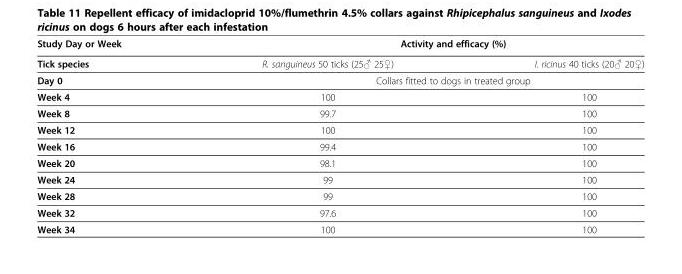table: (36, 37, 643, 234)
table column: (190, 37, 463, 234), (463, 37, 643, 234), (36, 37, 190, 234)
table column header: (36, 37, 643, 71)
table row: (36, 53, 643, 71), (36, 71, 643, 88), (36, 104, 643, 121), (36, 137, 643, 154), (36, 154, 643, 171), (36, 187, 643, 204), (36, 37, 643, 53), (36, 88, 643, 104), (36, 121, 643, 137), (36, 171, 643, 187), (36, 204, 643, 220), (36, 220, 643, 234)
table spanning cell: (190, 71, 643, 88), (190, 37, 643, 53), (36, 37, 190, 71)
